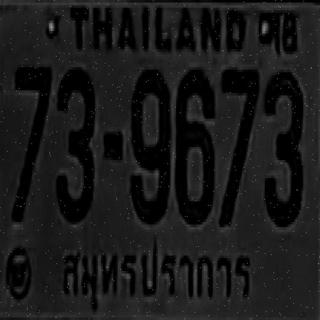N03: (55, 67, 95, 222), (263, 71, 303, 226)
N06: (174, 67, 214, 224)
N07: (219, 67, 259, 227), (12, 64, 52, 222)
N09: (130, 68, 170, 223)
P57: (56, 236, 257, 316)
